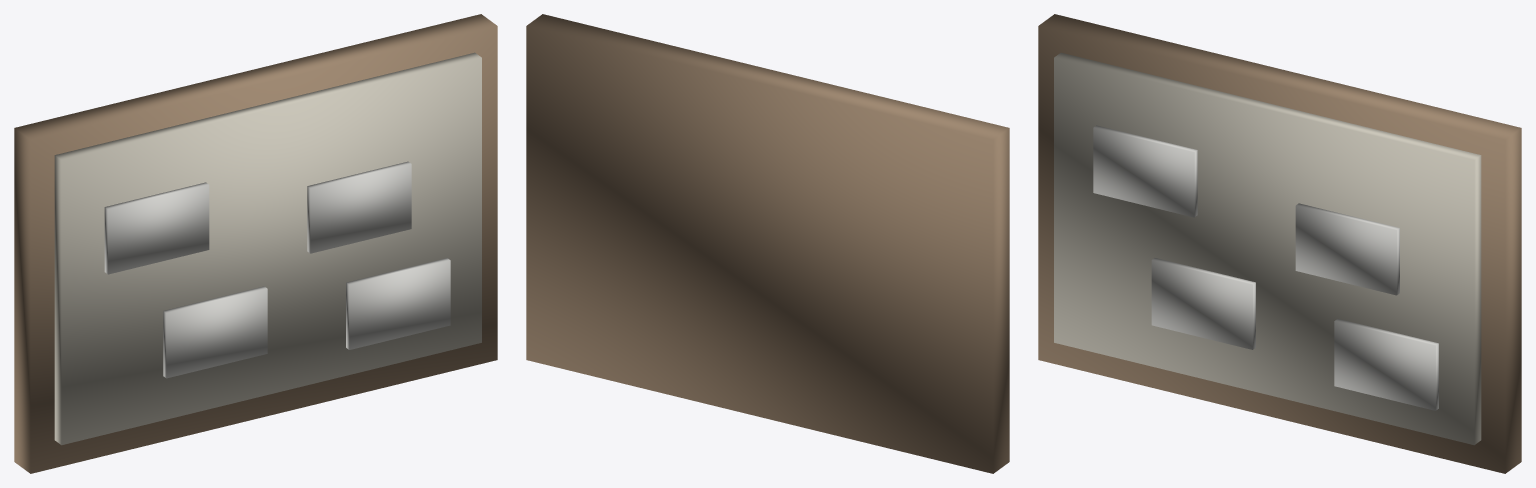
Rendered from chalkboard__deep.glb.
3 views of the same model, side by side, from view 1: azimuth 30°, elevation 25°; view 2: azimuth 150°, elevation 25°; view 3: azimuth 330°, elevation 25° (orthographic).
Visible parts, largest first — view 1: world; view 2: world; view 3: world.
Boxes of the visible parts, left/top/right/bottom form: world: left=14, top=14, right=497, bottom=473; world: left=526, top=14, right=1009, bottom=473; world: left=1038, top=14, right=1521, bottom=473.
Size of the model in its own units: 1.2 by 0.82 by 0.1232.
